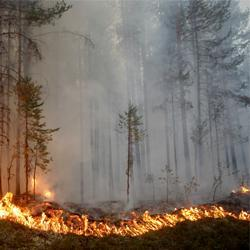fire: (41, 217, 80, 234), (121, 215, 162, 231), (182, 206, 227, 218), (0, 197, 21, 219)
